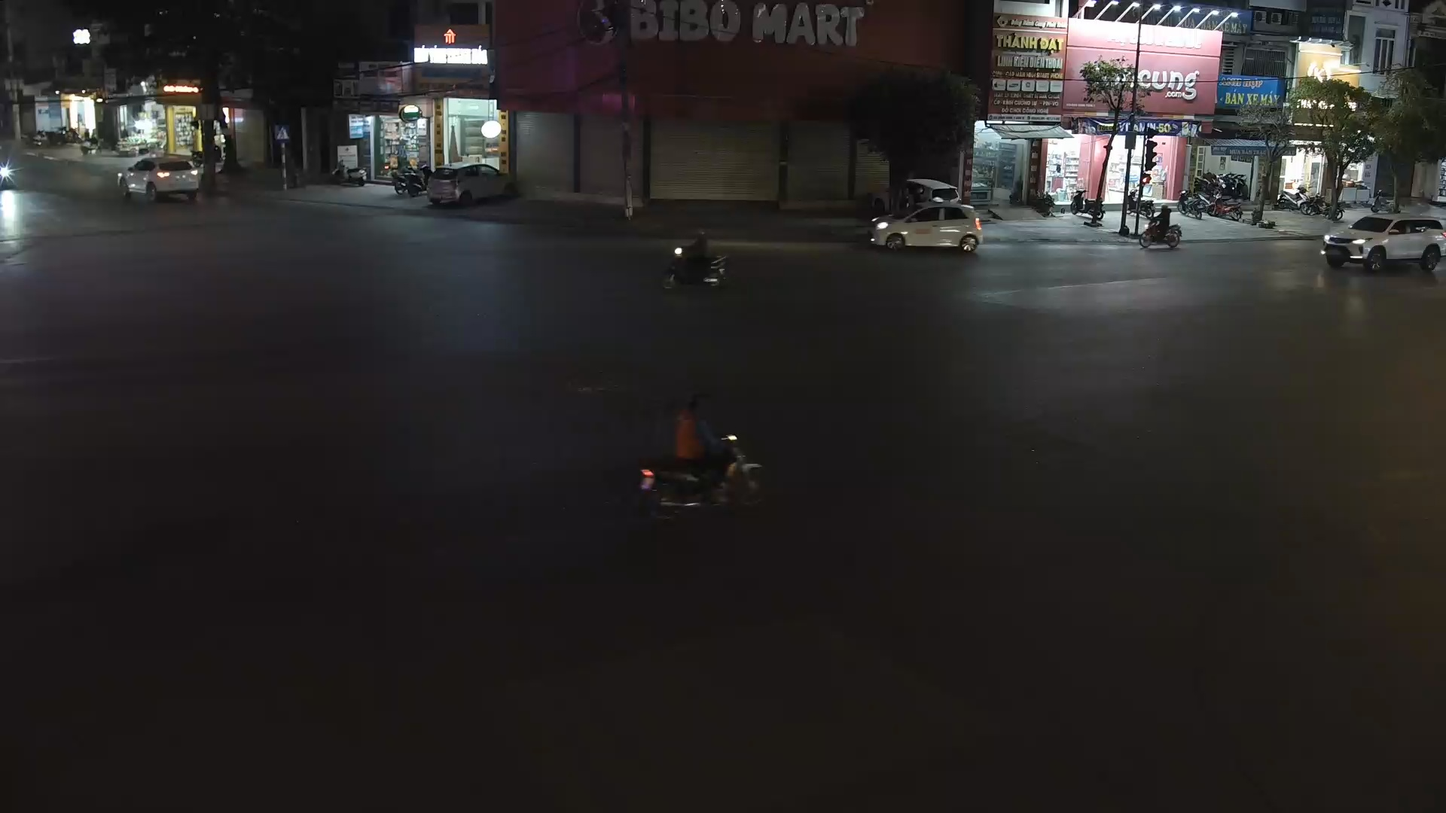car: (1321, 210, 1445, 273), (868, 197, 985, 253), (118, 153, 202, 203)
motorbike: (635, 390, 765, 523), (658, 239, 731, 294), (1138, 200, 1183, 251)
